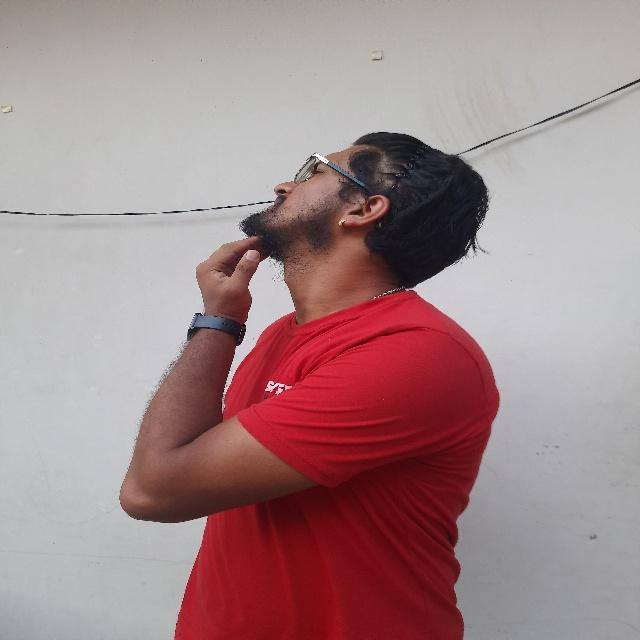Chin Flick: (182, 122, 456, 349)
